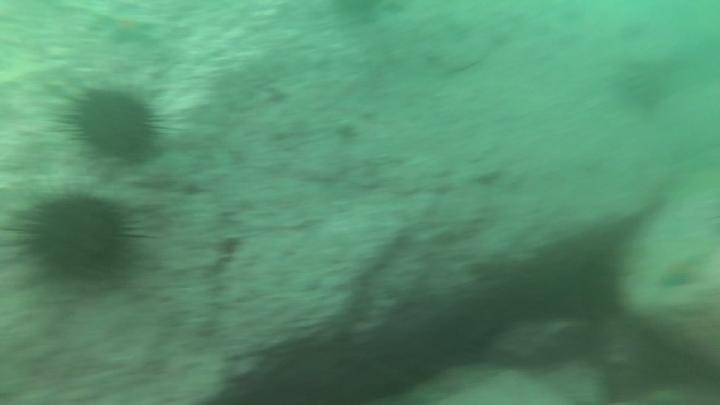echinus: (9, 184, 148, 295), (57, 81, 169, 168)
starfish: (652, 248, 708, 296), (94, 10, 160, 50)
